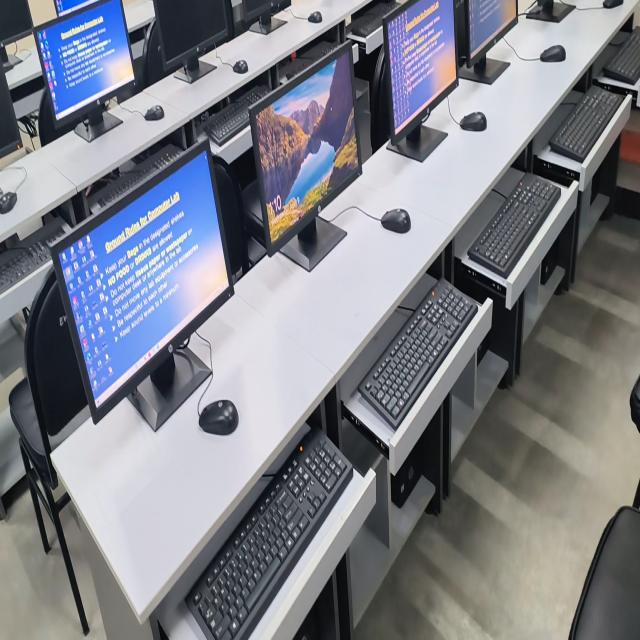Chair: (9, 271, 90, 634), (569, 506, 640, 639), (213, 156, 249, 276), (355, 47, 390, 152), (142, 20, 177, 87), (38, 88, 69, 146)
Cpu: (391, 430, 430, 507), (540, 236, 559, 285), (294, 621, 316, 639)
Keyboard: (188, 430, 353, 639), (358, 280, 479, 430), (467, 173, 560, 277), (88, 144, 183, 215), (549, 89, 624, 162), (203, 85, 270, 146), (0, 242, 50, 293), (280, 41, 340, 82), (603, 31, 640, 84), (349, 0, 400, 38)
Monitor: (53, 148, 230, 417), (250, 44, 363, 255), (34, 0, 135, 130), (384, 0, 457, 136), (153, 0, 234, 70), (469, 0, 516, 53)
Mouse: (199, 399, 239, 435), (381, 209, 411, 233), (459, 111, 487, 131), (540, 45, 566, 62), (0, 188, 17, 213), (144, 105, 164, 121), (233, 59, 248, 73), (308, 11, 322, 23), (603, 0, 623, 8)
